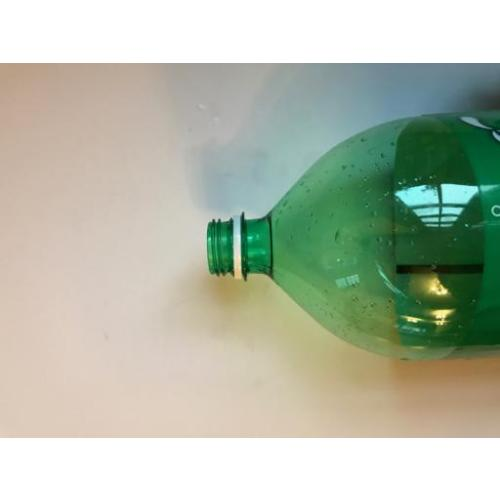plastic: (211, 113, 499, 356)
